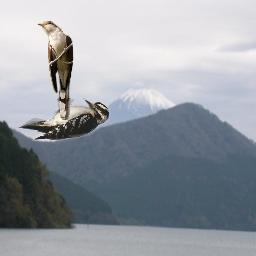Cuckoo: (37, 21, 74, 120)
Woodpecker: (18, 98, 115, 143)
